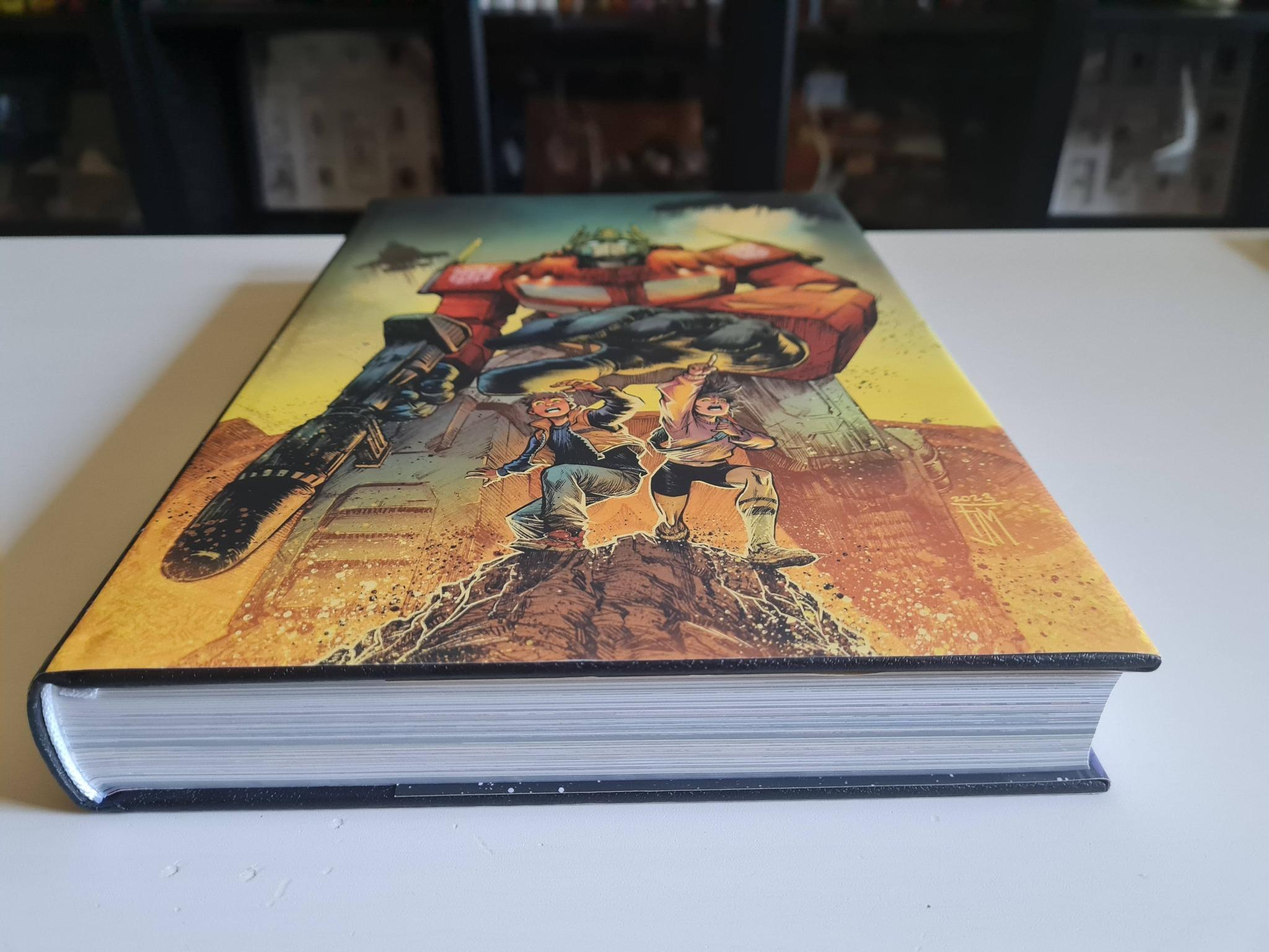comic: (43, 191, 1156, 678)
